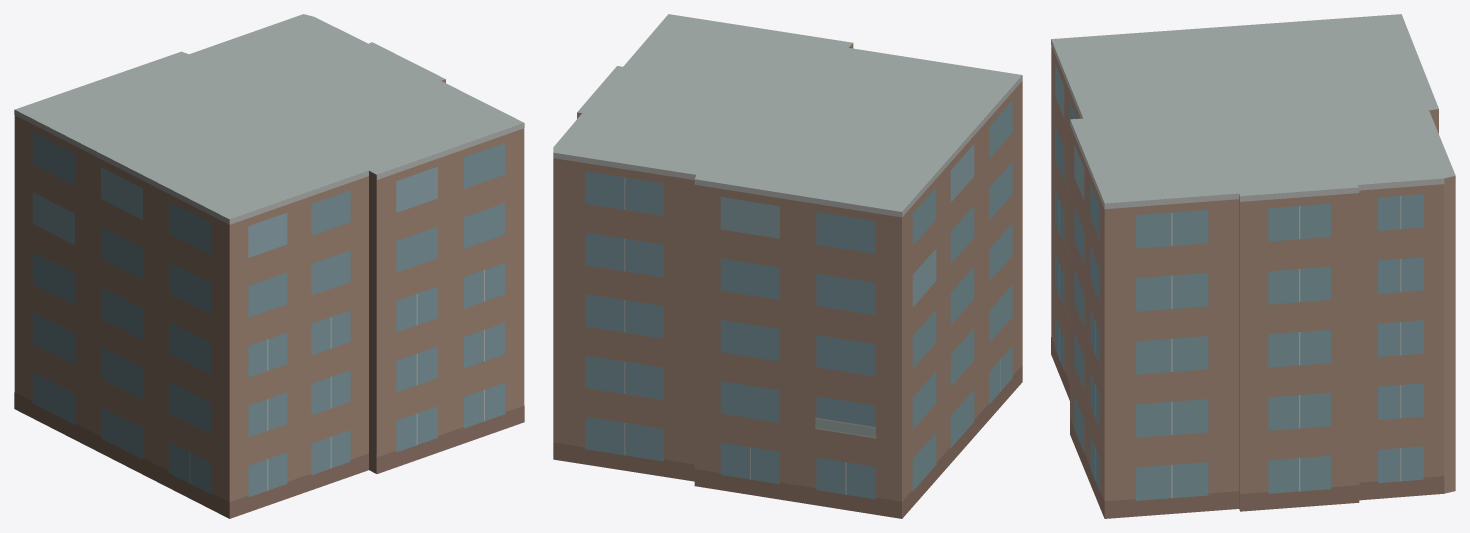
File: survey-upis-32894577.glb
3 renders of one model, left to right at view 1: azimuth 30°, elevation 25°; view 2: azimuth 150°, elevation 25°; view 3: azimuth 270°, elevation 25°, orthographic. The views are drawn at different scales.
Parts seen in each view (by area): view 1: survey-upis-32894577.tmp; view 2: survey-upis-32894577.tmp; view 3: survey-upis-32894577.tmp.
Part boxes in pixels (x1,y1,x2,y2): survey-upis-32894577.tmp: [14, 14, 524, 518]; survey-upis-32894577.tmp: [553, 14, 1022, 518]; survey-upis-32894577.tmp: [1051, 14, 1455, 518].
Size of the model in its own units: 17.61 by 13.65 by 15.89.
